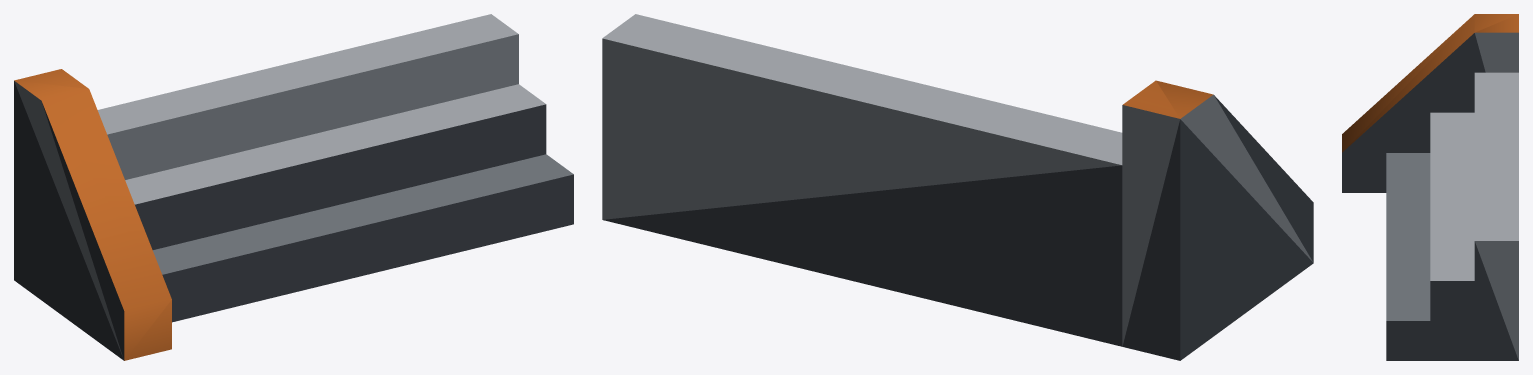
The model's file is Kit_stairs-small-edge.fbx.
3 renders of one model, left to right at view 1: azimuth 30°, elevation 25°; view 2: azimuth 150°, elevation 25°; view 3: azimuth 270°, elevation 25°, orthographic. The views are drawn at different scales.
Visible parts, largest first — view 1: Kit_stairs-small-edge; view 2: Kit_stairs-small-edge; view 3: Kit_stairs-small-edge.
Boxes of the visible parts, left/top/right/bottom form: Kit_stairs-small-edge: left=14, top=14, right=573, bottom=360; Kit_stairs-small-edge: left=602, top=14, right=1313, bottom=360; Kit_stairs-small-edge: left=1342, top=14, right=1518, bottom=360.
Bounding box in the file's own units: 1 × 0.4 × 0.4.
